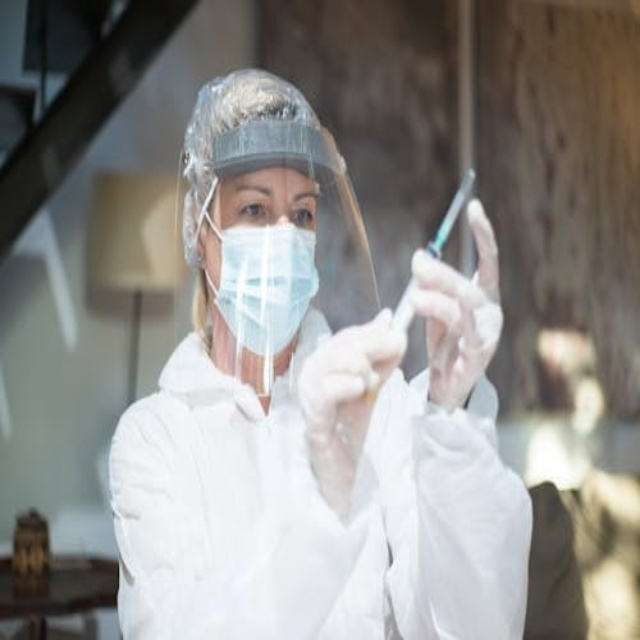Guantes: (406, 197, 505, 415), (295, 306, 410, 478)
Mascara: (205, 205, 319, 361)
Sin_gafas: (220, 176, 334, 241)
